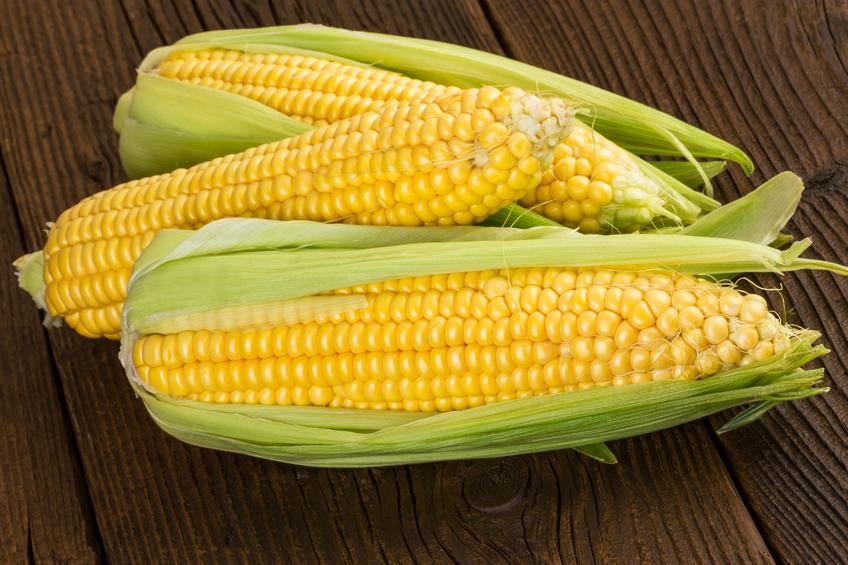sweetcorn: (16, 27, 842, 467), (14, 46, 599, 340), (126, 262, 815, 414), (124, 332, 831, 468), (123, 213, 845, 337), (113, 45, 588, 226), (517, 113, 686, 234)
